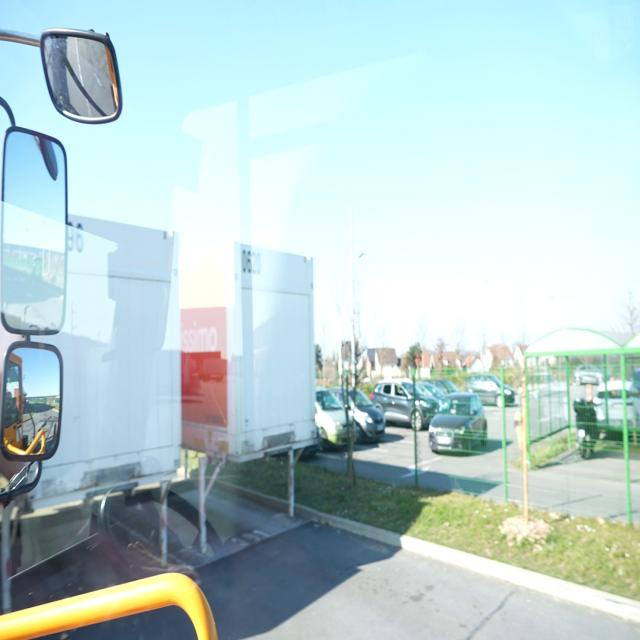Code: (237, 247, 264, 280)
